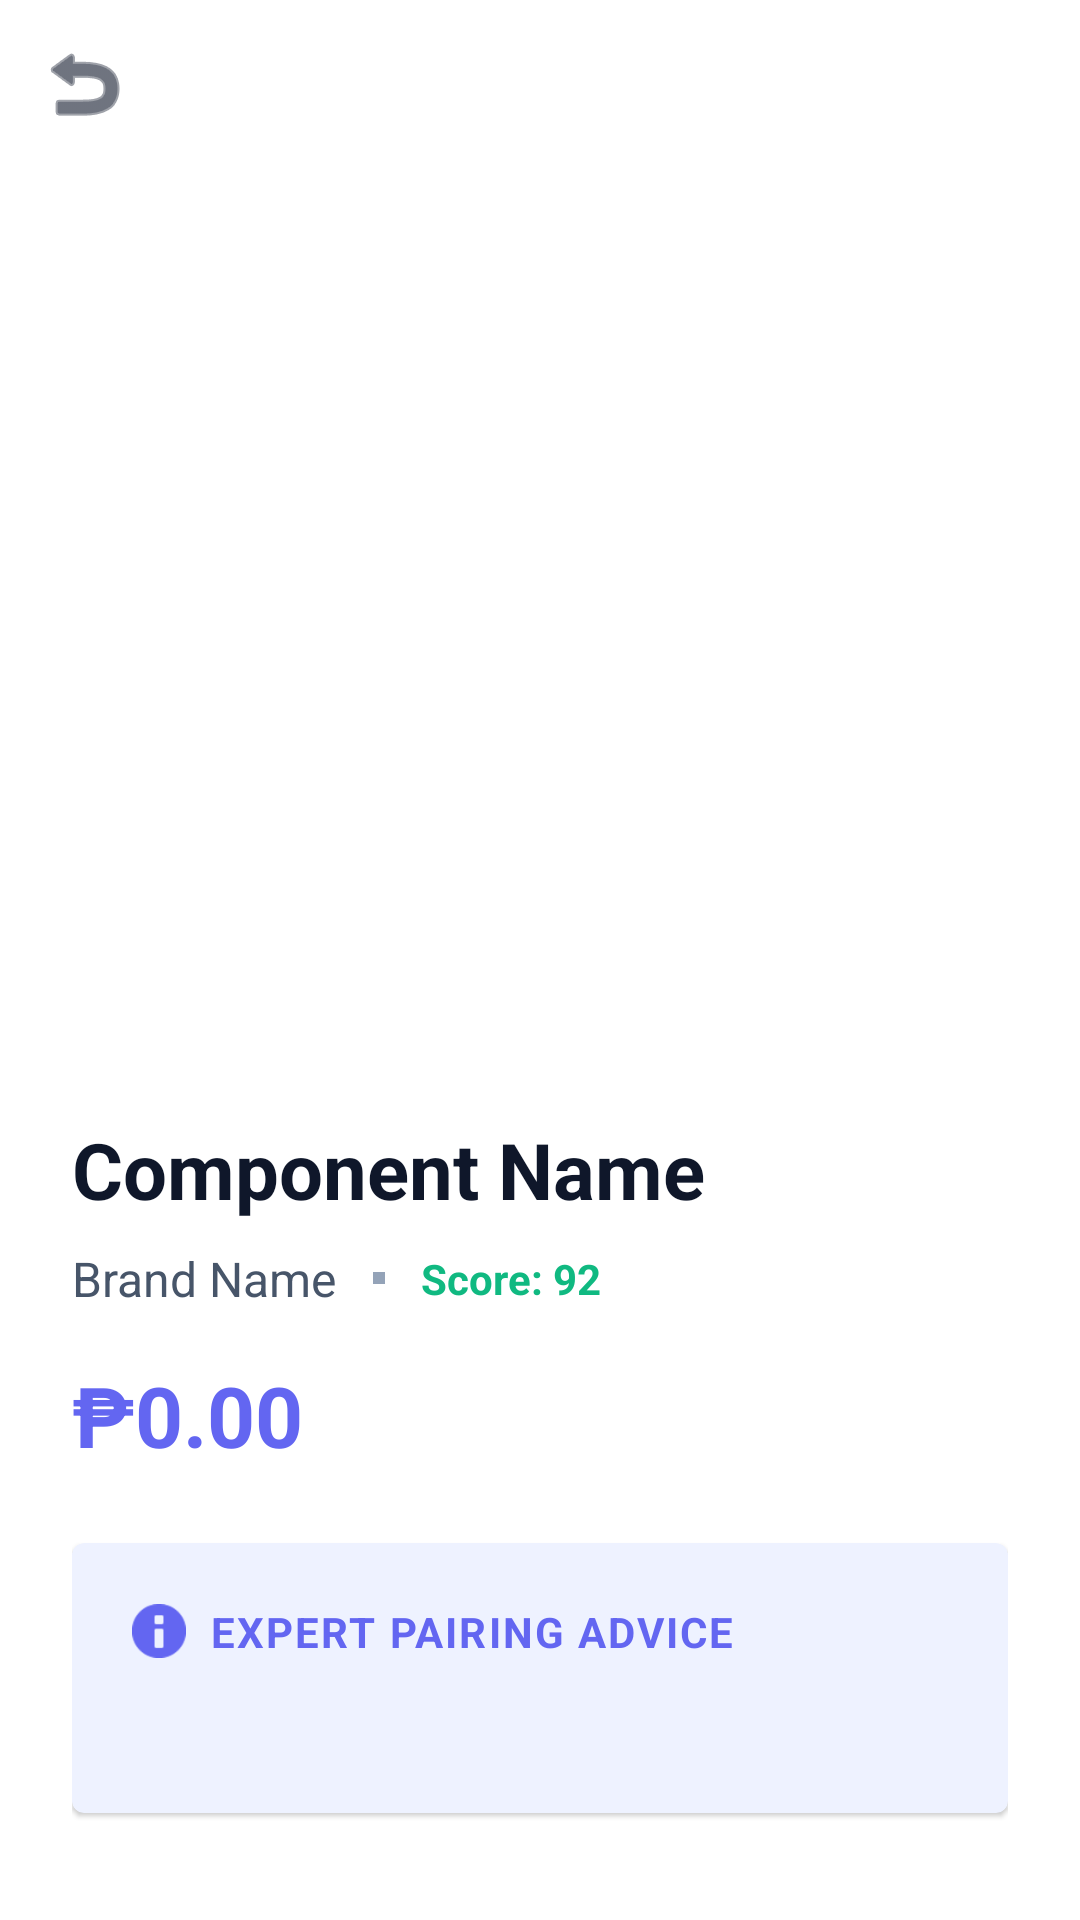

Where icons sit on this 1080 × 1920 app screen, as bbox=[x1, y1, x2, y2]:
info: bbox=[132, 1604, 186, 1658]
